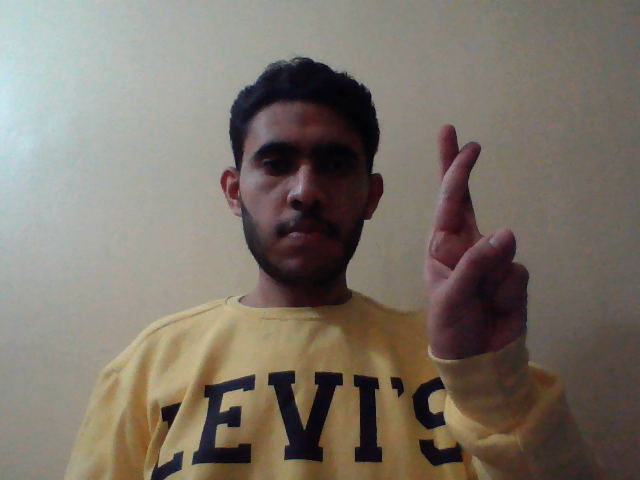R: (417, 118, 540, 382)
